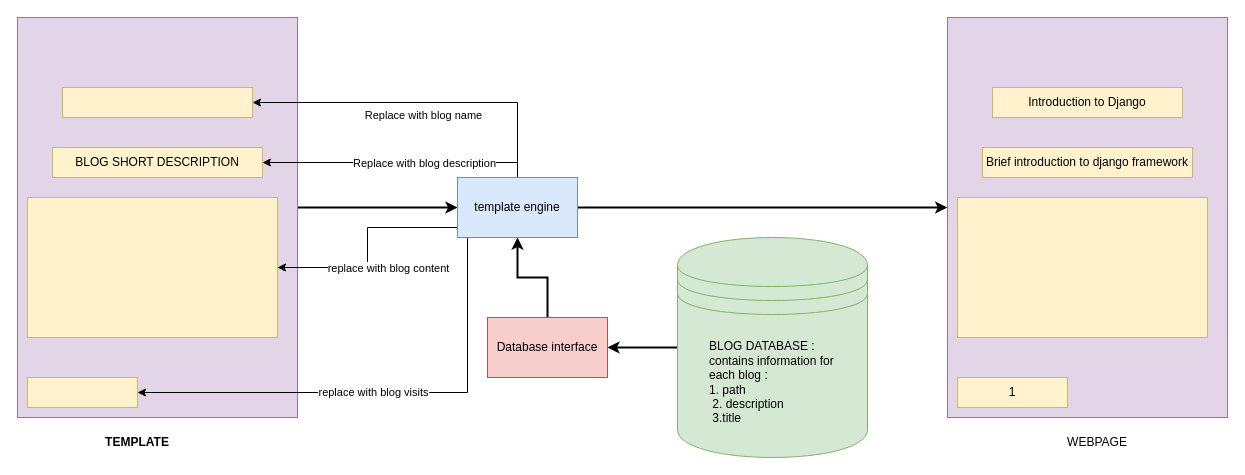
Image size: 1245x475. Some labels were removed from this diagram. The shapes that lost their labels are listed below. From the top down, each one's centre as x and y in pixels, then its label:
the point at 157,102: BLOG TITLE
the point at 152,267: BLOG CONENT
the point at 1082,267: Django is a python based web development framework.
the point at 82,392: BLOG VISITS
